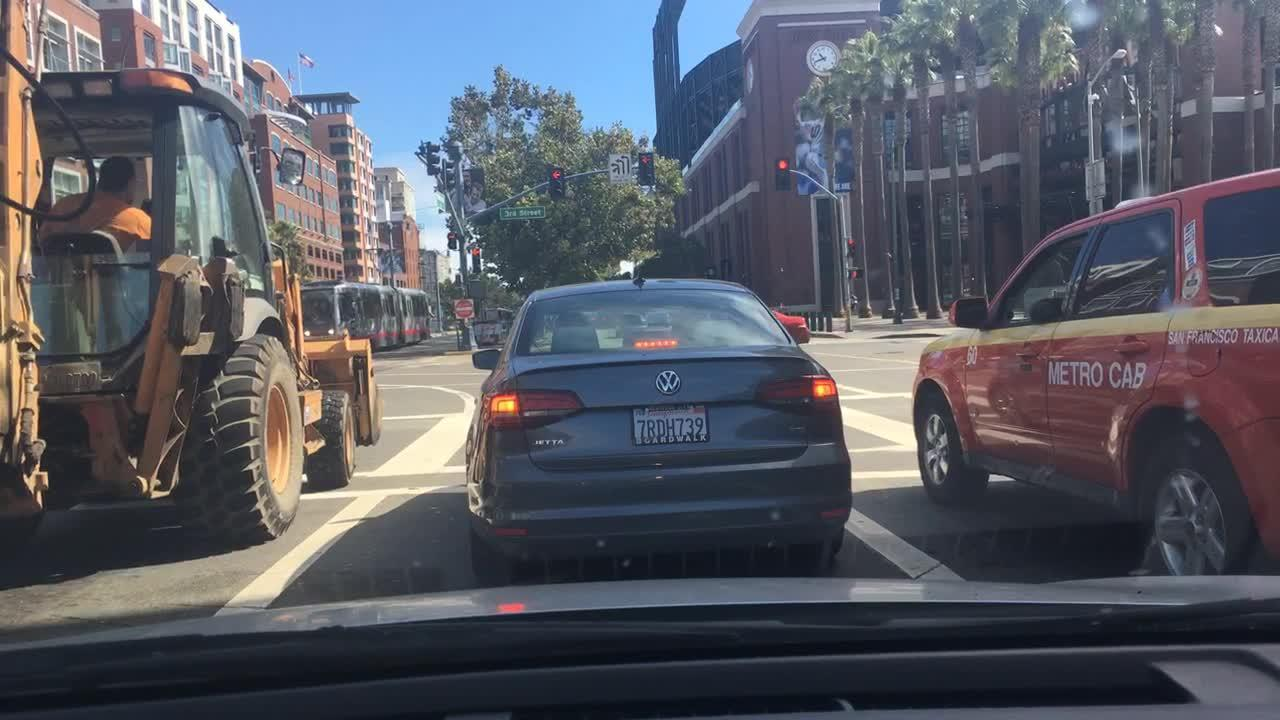Volkswagen: (649, 358, 690, 400)
